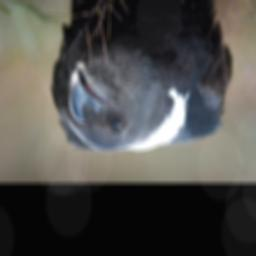Crow: (50, 0, 231, 153)
